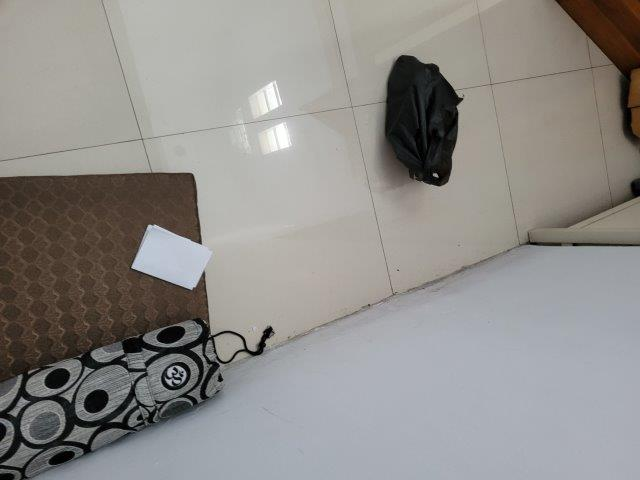kertas: (132, 225, 212, 293)
plastik: (386, 55, 461, 187)
